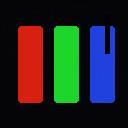4 line_v: (105, 15, 109, 53)
